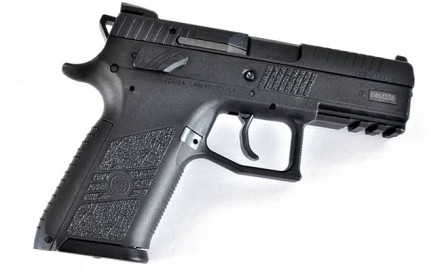gun: (32, 2, 416, 266)
